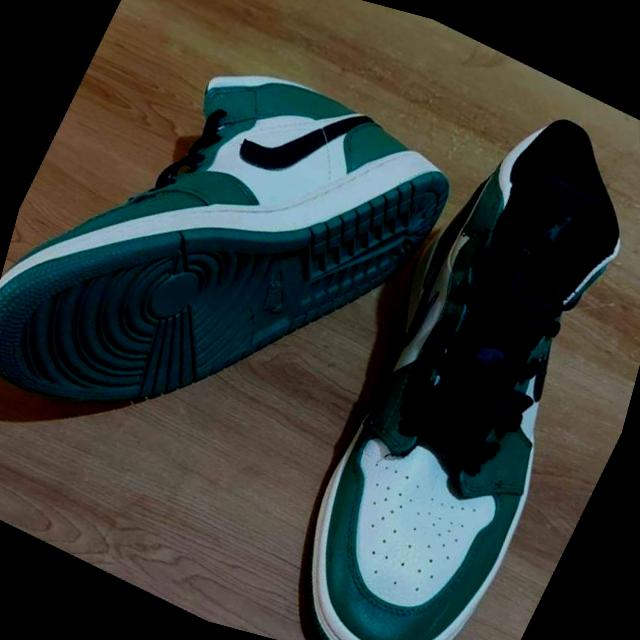nike_fake_jordan: (235, 54, 640, 640)
